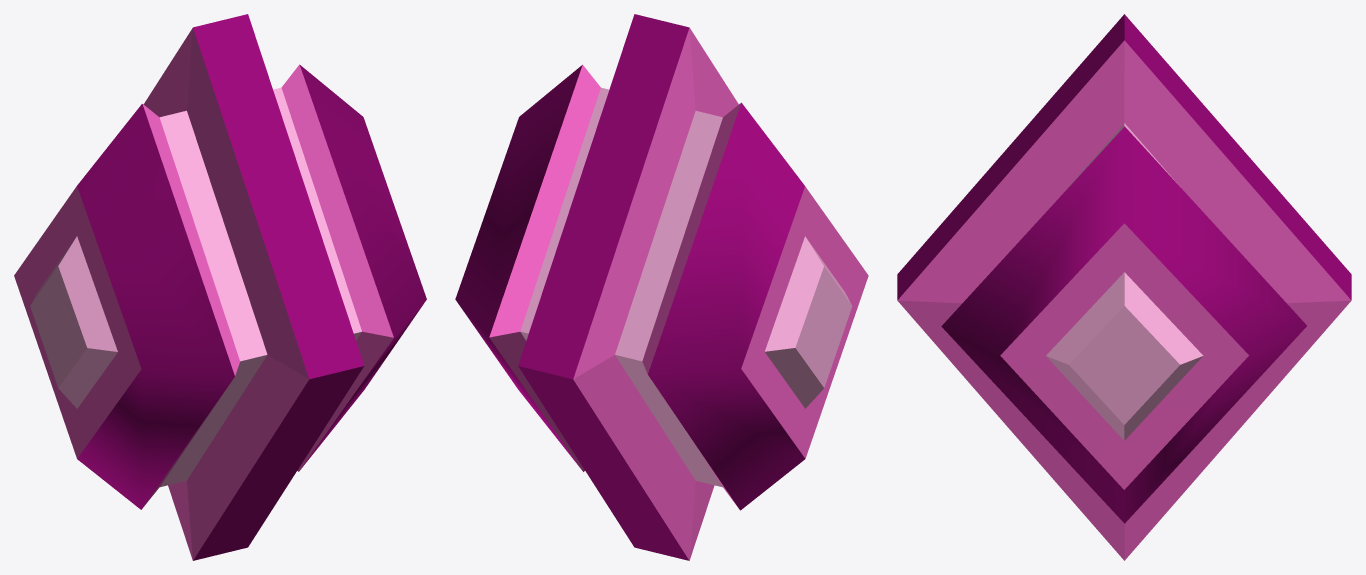
File: Enemy_Tanker_v2.0.fbx
The picture shows the model from 3 angles, left to right: view 1: azimuth 30°, elevation 25°; view 2: azimuth 150°, elevation 25°; view 3: azimuth 270°, elevation 25°; orthographic projection. The views are drawn at different scales.
Parts seen in each view (by area): view 1: Tanker; view 2: Tanker; view 3: Tanker.
Boxes of the visible parts, left/top/right/bottom form: Tanker: left=14, top=14, right=426, bottom=560; Tanker: left=455, top=14, right=868, bottom=560; Tanker: left=897, top=14, right=1351, bottom=560.
Size of the model in its own units: 130 by 204 by 161.
